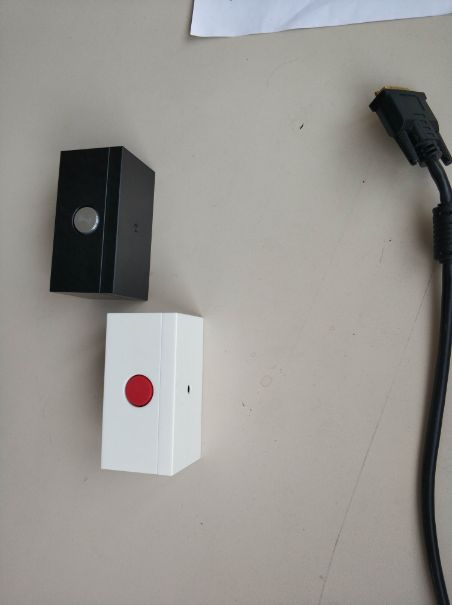black+black+silver: (50, 145, 156, 299)
white+white+red: (95, 309, 209, 479)
